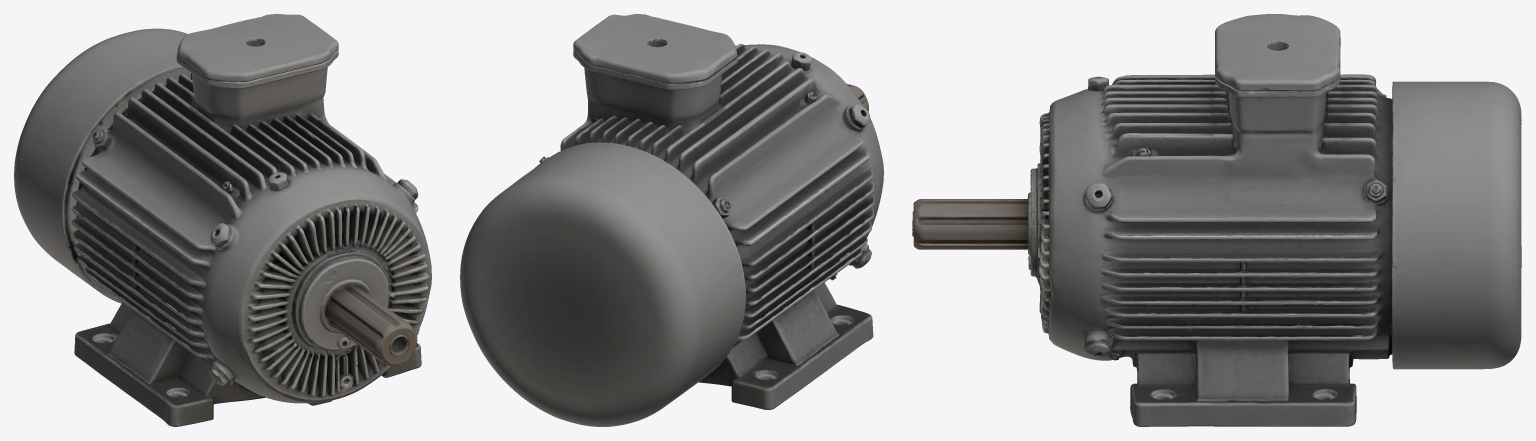
File: motor.glb
3 renders of one model, left to right at view 1: azimuth 30°, elevation 25°; view 2: azimuth 150°, elevation 25°; view 3: azimuth 270°, elevation 25°, orthographic. The views are drawn at different scales.
Visible parts, largest first — view 1: tripo_node_15ff3b86-477b-49d0-9bbd-3d7ba532cea4; view 2: tripo_node_15ff3b86-477b-49d0-9bbd-3d7ba532cea4; view 3: tripo_node_15ff3b86-477b-49d0-9bbd-3d7ba532cea4.
Part boxes in pixels (bbox=[...]): tripo_node_15ff3b86-477b-49d0-9bbd-3d7ba532cea4: bbox=[14, 14, 431, 426]; tripo_node_15ff3b86-477b-49d0-9bbd-3d7ba532cea4: bbox=[460, 14, 883, 426]; tripo_node_15ff3b86-477b-49d0-9bbd-3d7ba532cea4: bbox=[912, 14, 1521, 426].
Size of the model in its own units: 0.5099 by 0.5839 by 0.9828.
1 material, 1 textured.
